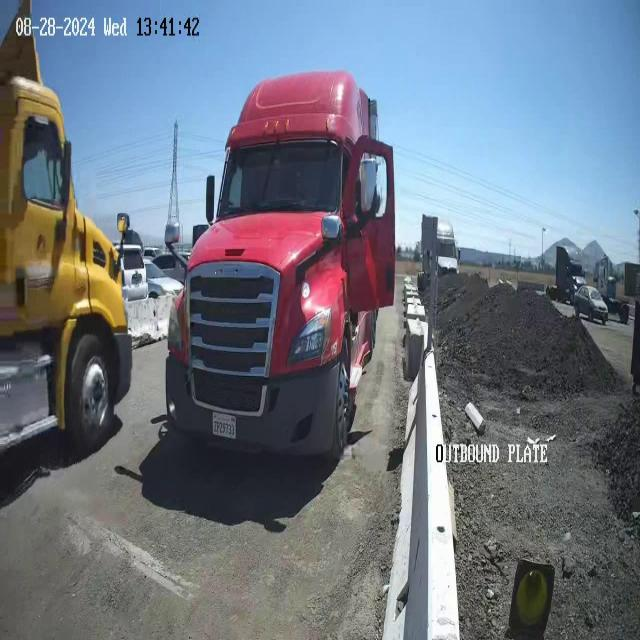TRUCK_IN: (164, 68, 396, 464)
